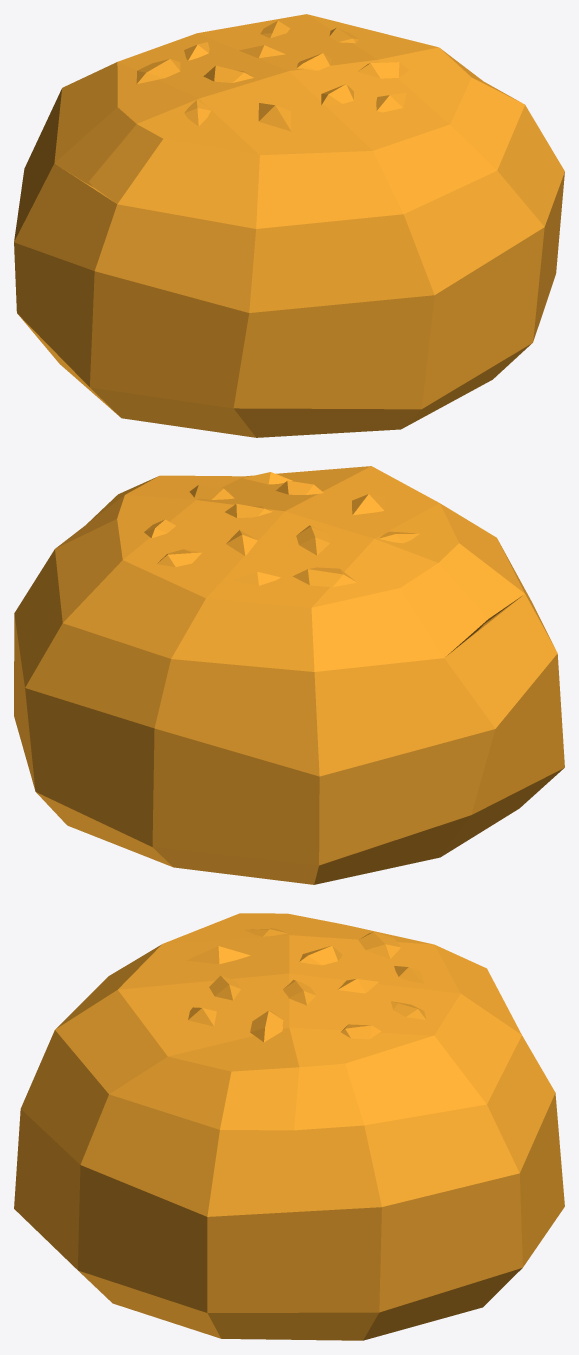
File: SM_Bread_Bowl.fbx
The picture shows the model from 3 angles, top to bottom: view 1: azimuth 30°, elevation 25°; view 2: azimuth 150°, elevation 25°; view 3: azimuth 270°, elevation 25°; orthographic projection.
Parts seen in each view (by area): view 1: bread-bowl-base, bread-bowl-top, bread-bowl-seeds; view 2: bread-bowl-base, bread-bowl-top, bread-bowl-seeds; view 3: bread-bowl-base, bread-bowl-top, bread-bowl-seeds.
Part boxes in pixels (x1,y1,x2,y2): bread-bowl-base: (14,89,564,437); bread-bowl-top: (54,14,524,228); bread-bowl-seeds: (136,20,409,131); bread-bowl-base: (14,540,564,884); bread-bowl-top: (55,466,524,671); bread-bowl-seeds: (144,472,419,587); bread-bowl-base: (14,1030,564,1340); bread-bowl-top: (55,913,521,1130); bread-bowl-seeds: (186,928,426,1042).
Size of the model in its own units: 0.249 by 0.1381 by 0.2477.
